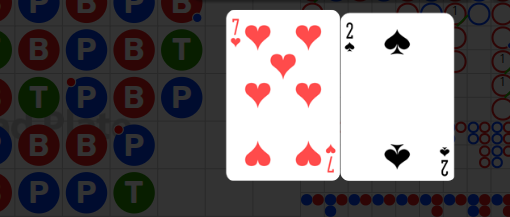2S: (437, 143, 450, 177)
7H: (323, 142, 336, 173)
